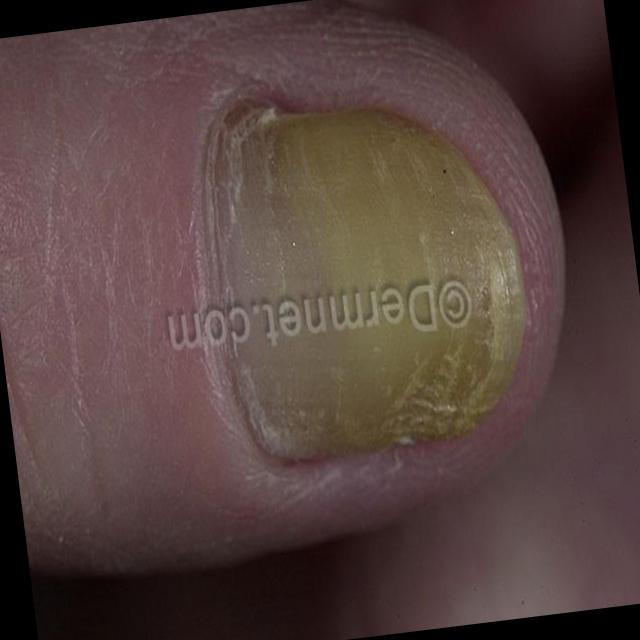Nail: (209, 101, 525, 458)
